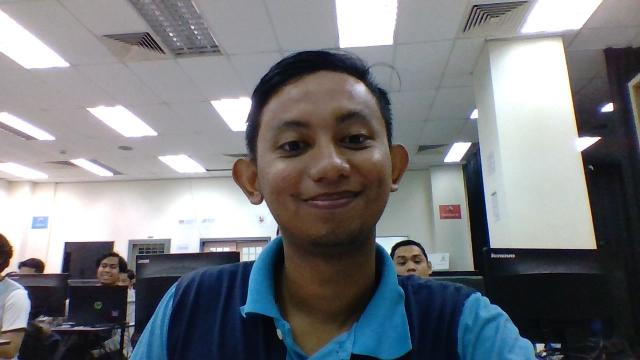senang: (227, 62, 416, 264)
